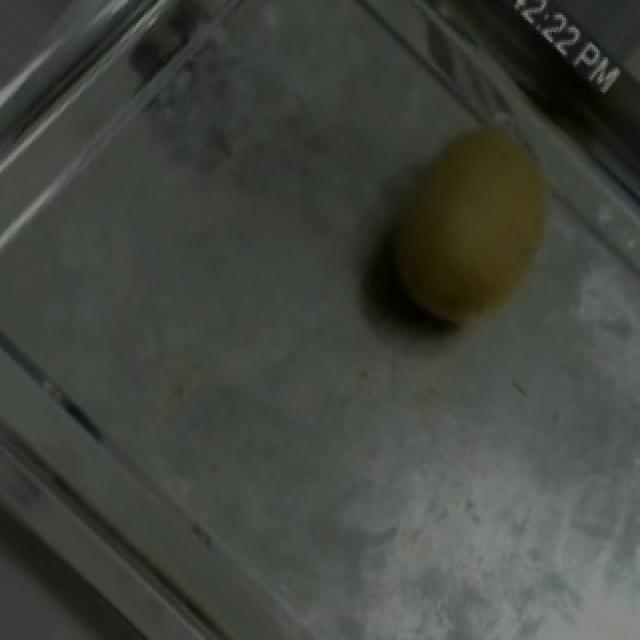Fruit: (326, 94, 594, 360)
